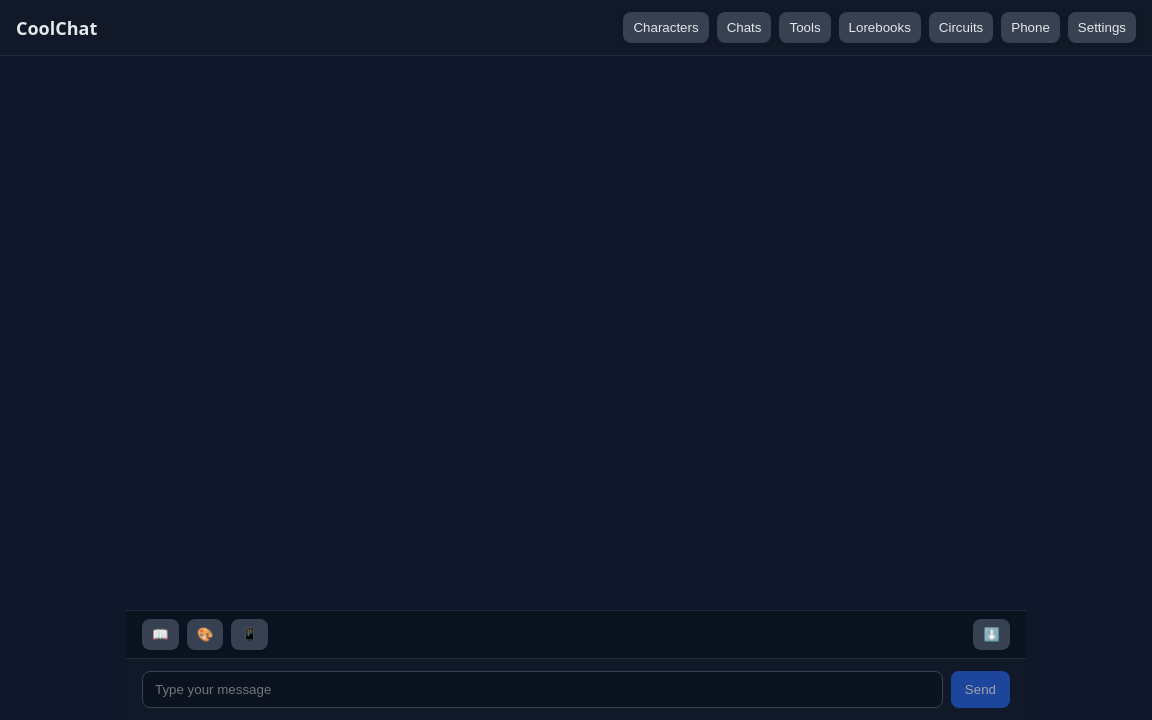
Test: App chat › shows user and bot messages after sending
Type "Hello" into the field with placeholder "Type your message" at (542, 690), box [142, 671, 943, 708]
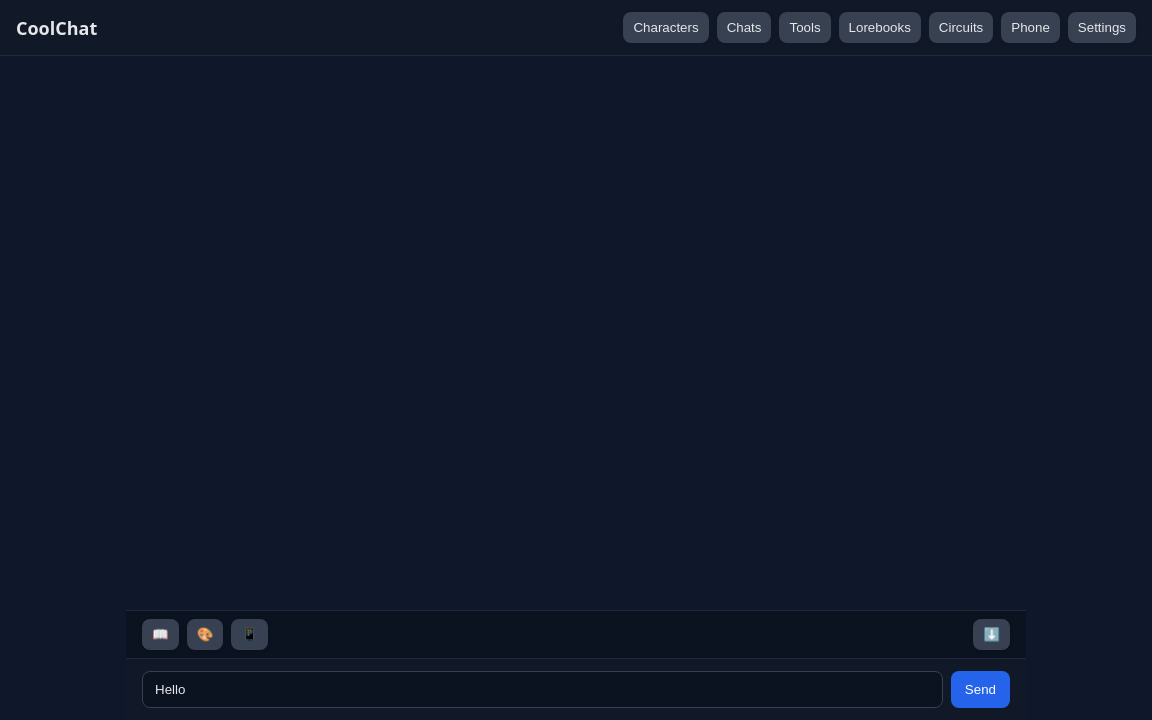
Submit the form with placeholder "type your message", box [126, 658, 1026, 719]
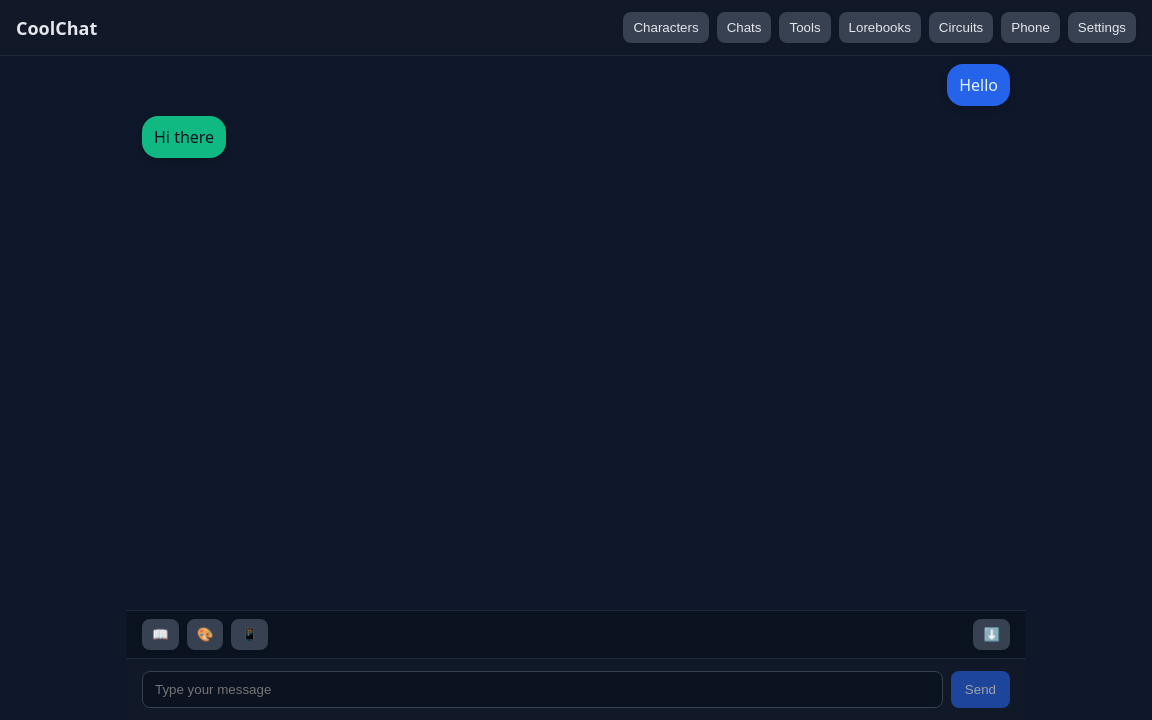
Expected: the text "Hello" is shown, [959, 74, 998, 96]
Expected: the text "Hi there" is shown, [154, 126, 214, 148]
